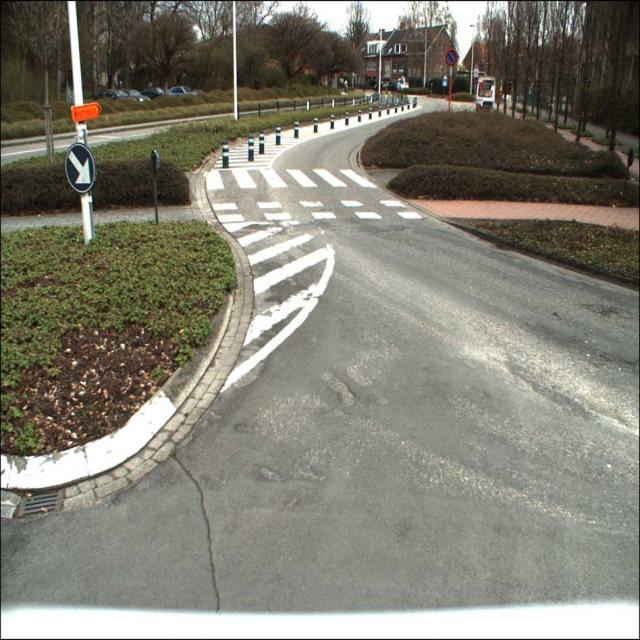parkyasak: (446, 48, 458, 65)
